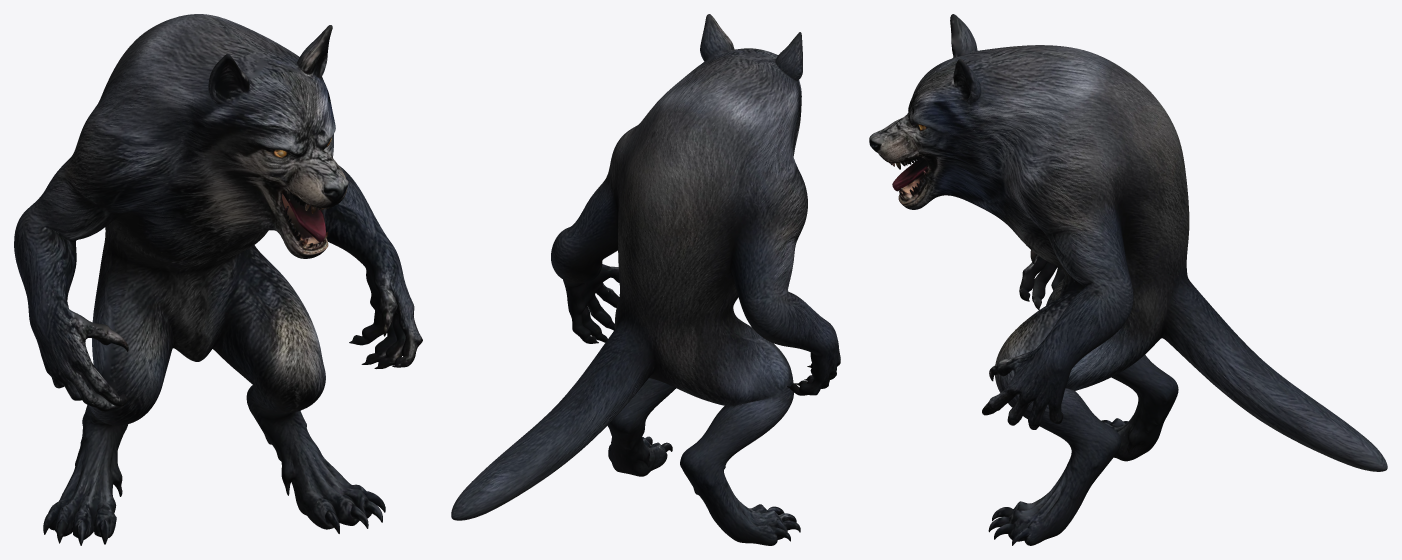
The model's file is werewolf.glb.
The picture shows the model from 3 angles, left to right: view 1: azimuth 30°, elevation 25°; view 2: azimuth 150°, elevation 25°; view 3: azimuth 270°, elevation 25°; orthographic projection. The views are drawn at different scales.
Visible parts, largest first — view 1: material; view 2: material; view 3: material.
Boxes of the visible parts, x1,y1,x2,y2 form: material: [14, 14, 422, 545]; material: [451, 14, 840, 545]; material: [869, 14, 1387, 545].
Size of the model in its own units: 0.6173 by 0.912 by 0.9399.
1 material, 1 textured.
